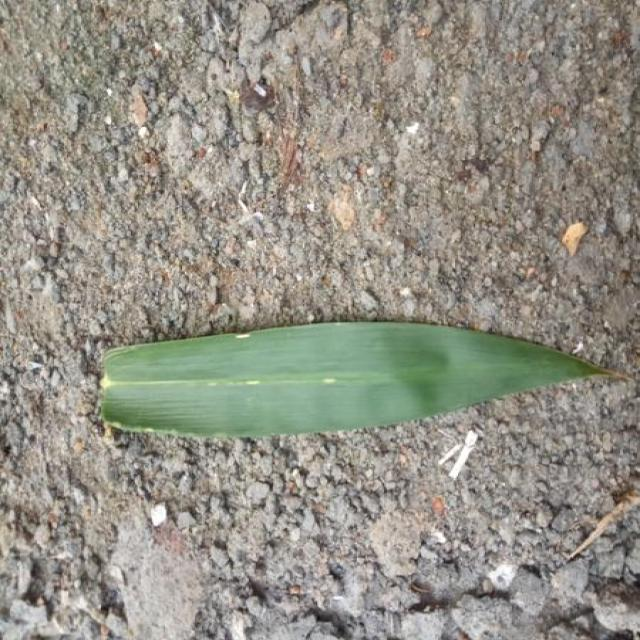Bamboo: (102, 322, 612, 437)
defectedBamboo: (105, 348, 478, 383)
